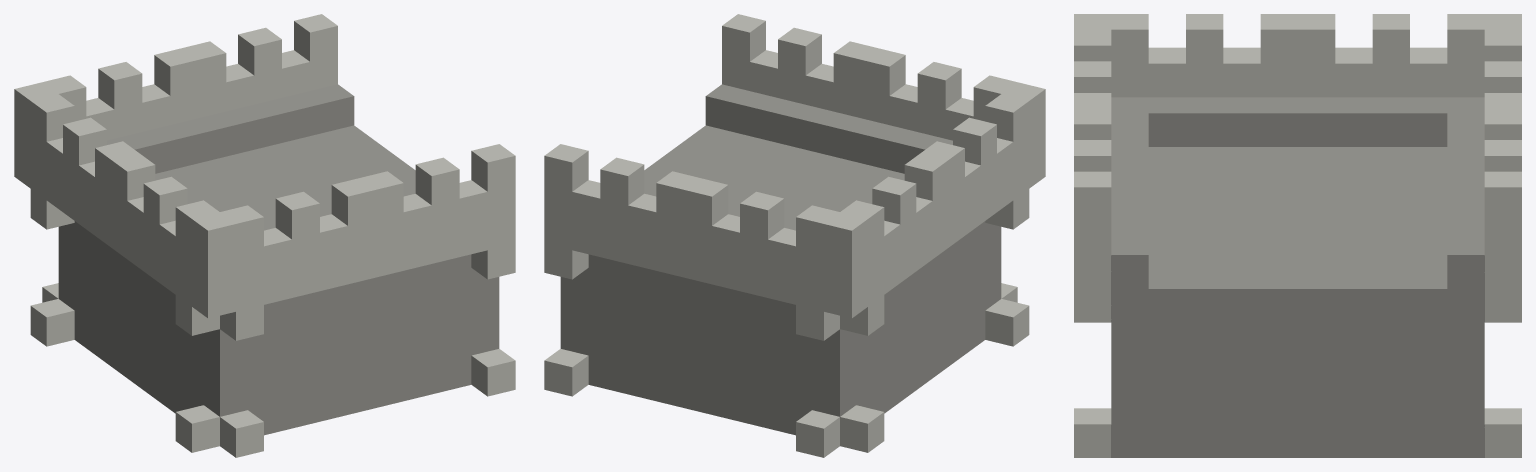
The model's file is 1x1x5_threesided.fbx.
3 renders of one model, left to right at view 1: azimuth 30°, elevation 25°; view 2: azimuth 150°, elevation 25°; view 3: azimuth 270°, elevation 25°, orthographic. The views are drawn at different scales.
Visible parts, largest first — view 1: Matrix; view 2: Matrix; view 3: Matrix.
Boxes of the visible parts, left/top/right/bottom form: Matrix: left=14, top=14, right=515, bottom=457; Matrix: left=544, top=14, right=1045, bottom=457; Matrix: left=1074, top=14, right=1521, bottom=457.
Size of the model in its own units: 11 by 8 by 12.
Materials: 1 (1 with a texture image).
